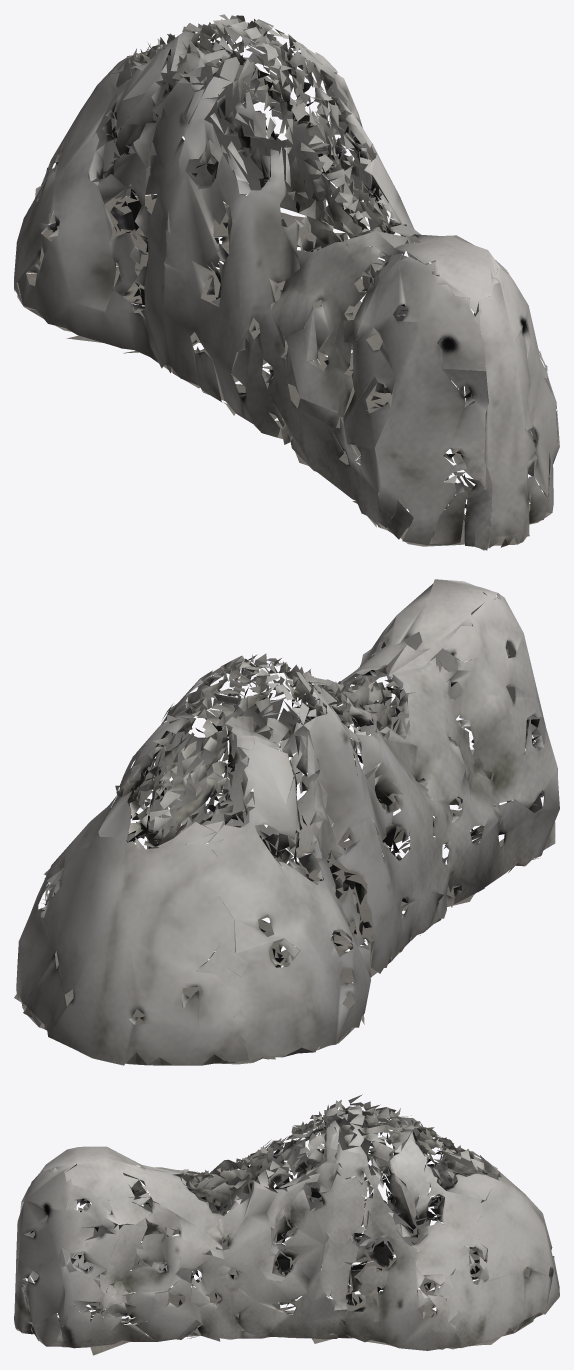
Rendered from TaihuRock.glb.
3 views of the same model, one above another, from view 1: azimuth 30°, elevation 25°; view 2: azimuth 150°, elevation 25°; view 3: azimuth 270°, elevation 25° (orthographic). The views are drawn at different scales.
Parts seen in each view (by area): view 1: TaihuRock; view 2: TaihuRock; view 3: TaihuRock.
Boxes of the visible parts, left/top/right/bottom form: TaihuRock: left=14, top=14, right=559, bottom=550; TaihuRock: left=14, top=579, right=559, bottom=1065; TaihuRock: left=14, top=1094, right=559, bottom=1355.
Size of the model in its own units: 0.8482 by 0.8696 by 1.89.
Materials: 1 (1 with a texture image).
